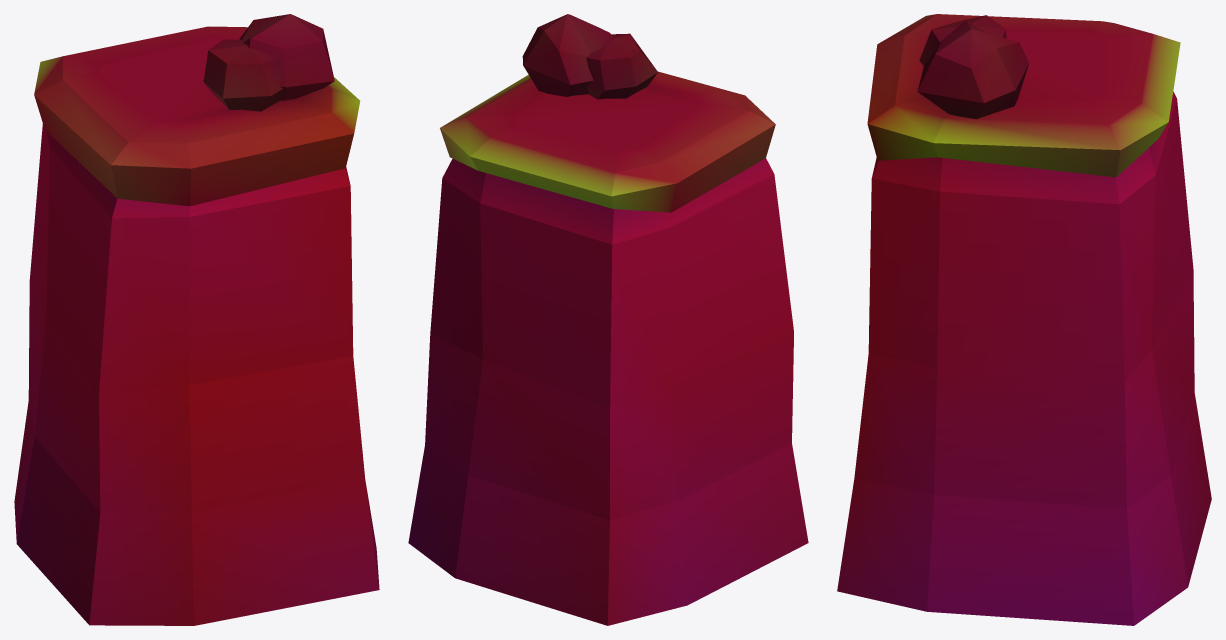
The model's file is Cliff_Pillar_Small.fbx.
3 views of the same model, side by side, from view 1: azimuth 30°, elevation 25°; view 2: azimuth 150°, elevation 25°; view 3: azimuth 270°, elevation 25° (orthographic). The views are drawn at different scales.
Parts seen in each view (by area): view 1: Cliff_Pillar_Small; view 2: Cliff_Pillar_Small; view 3: Cliff_Pillar_Small.
Boxes of the visible parts, left/top/right/bottom form: Cliff_Pillar_Small: left=14, top=14, right=379, bottom=625; Cliff_Pillar_Small: left=408, top=14, right=808, bottom=625; Cliff_Pillar_Small: left=837, top=14, right=1211, bottom=625.
Size of the model in its own units: 2.06 by 3.26 by 2.01.
